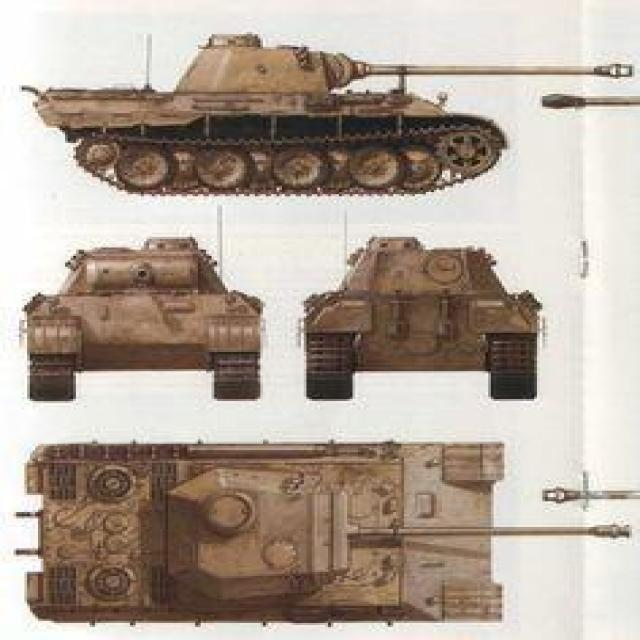MIL_MBT: (19, 437, 513, 627), (34, 11, 517, 192), (300, 206, 541, 419), (18, 233, 275, 420)
